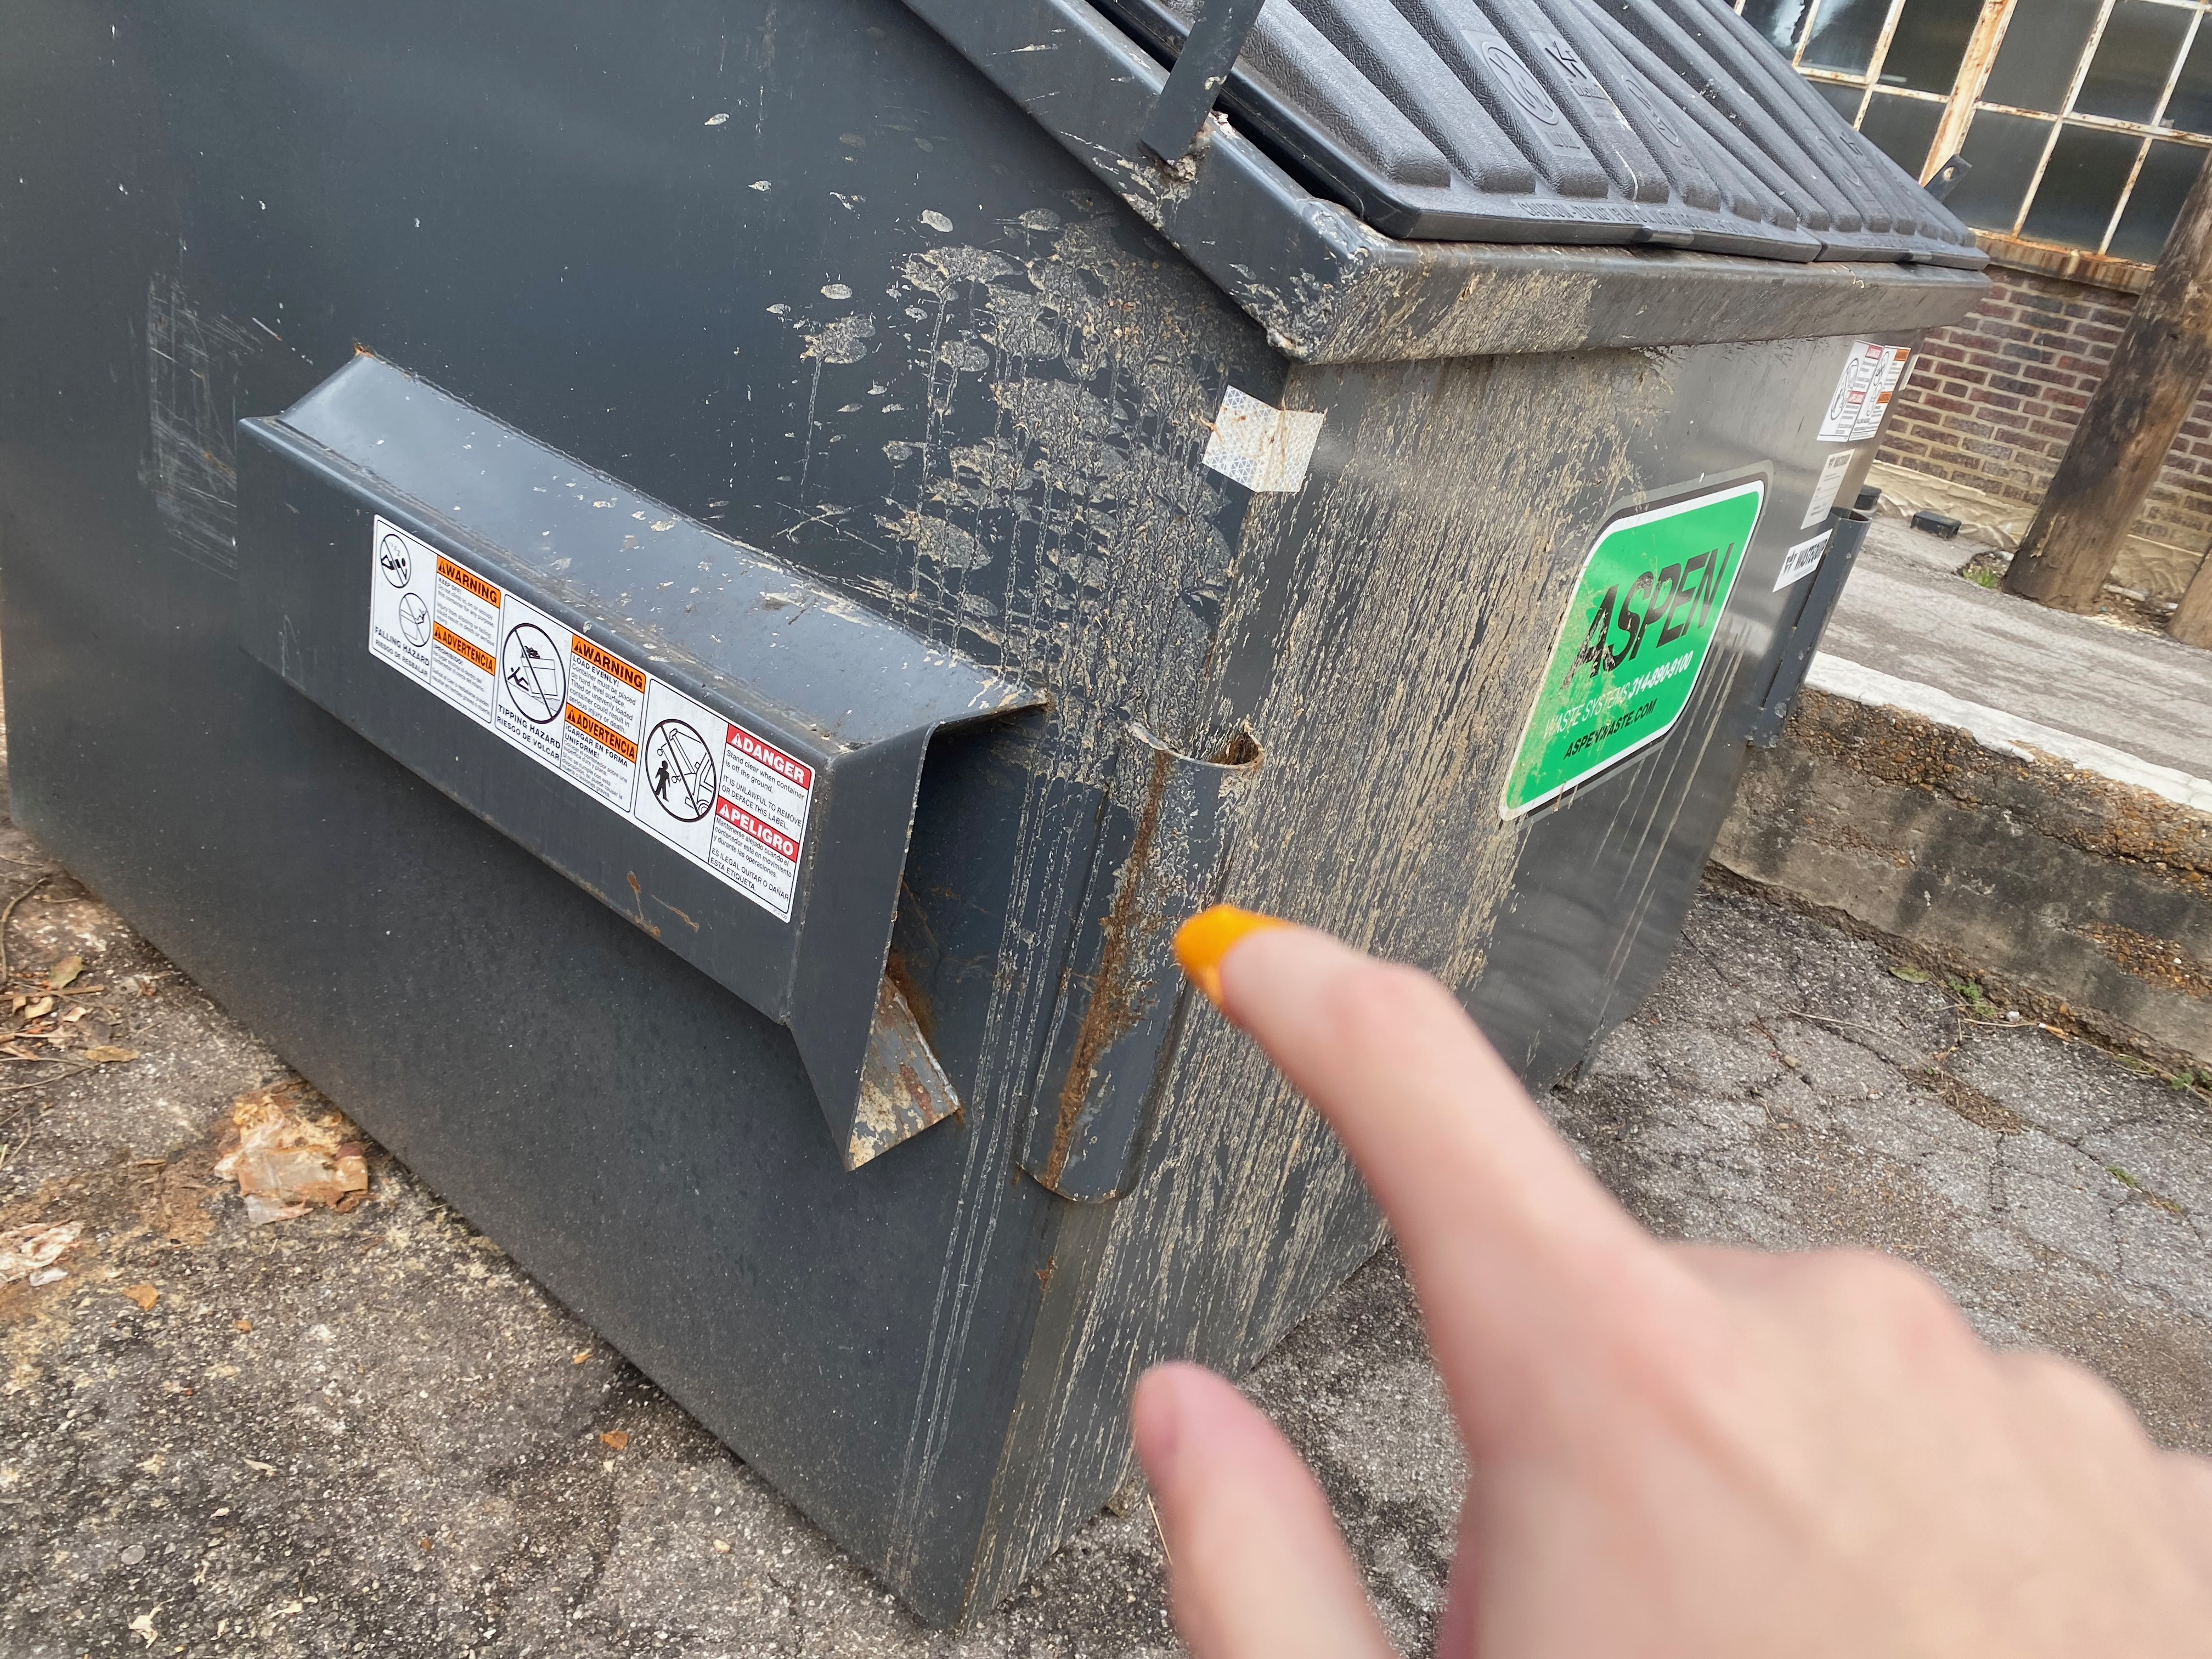fingertip: (1137, 896, 1315, 1033)
